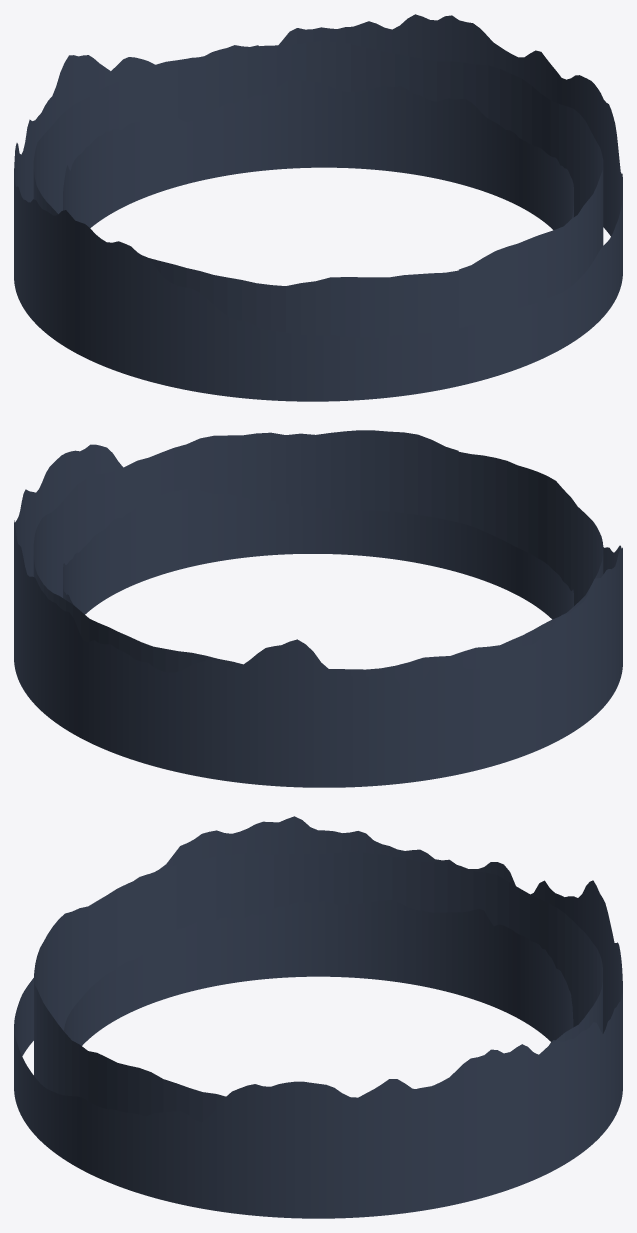
File: ExtBackdrop.fbx
3 views of the same model, one above another, from view 1: azimuth 30°, elevation 25°; view 2: azimuth 150°, elevation 25°; view 3: azimuth 270°, elevation 25° (orthographic).
Parts seen in each view (by area): view 1: ExtBackdrop; view 2: ExtBackdrop; view 3: ExtBackdrop.
Boxes of the visible parts, bbox=[...] form: ExtBackdrop: bbox=[14, 14, 622, 401]; ExtBackdrop: bbox=[14, 430, 622, 787]; ExtBackdrop: bbox=[14, 816, 622, 1218].
Size of the model in its own units: 94 by 25.06 by 92.
